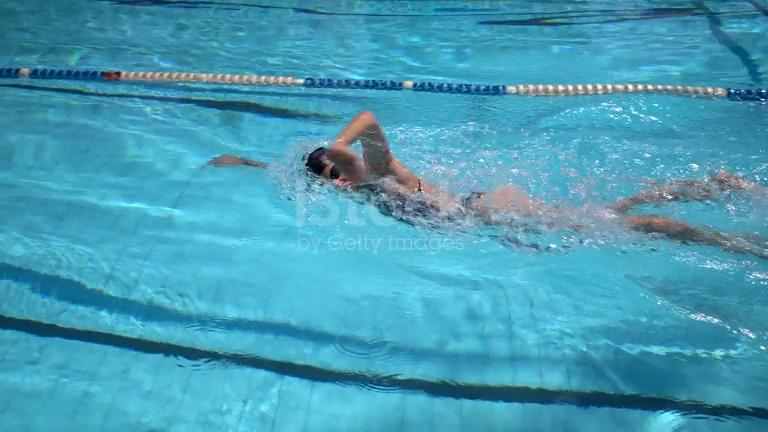Swimming: (199, 108, 765, 264)
